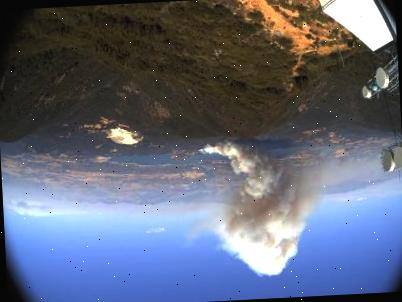smoke: (192, 135, 327, 283)
